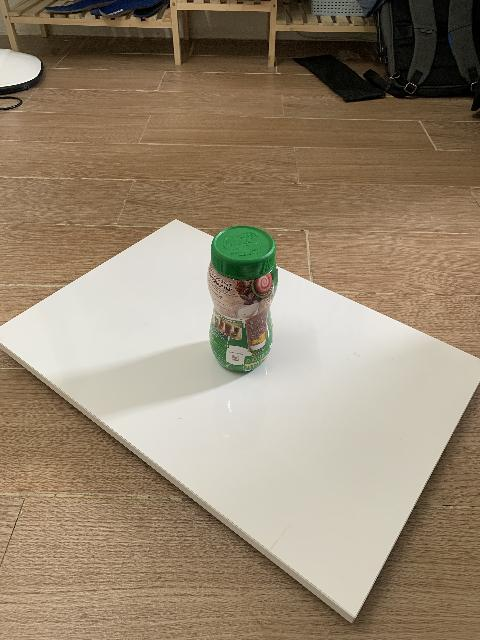milo: (207, 225, 279, 374)
